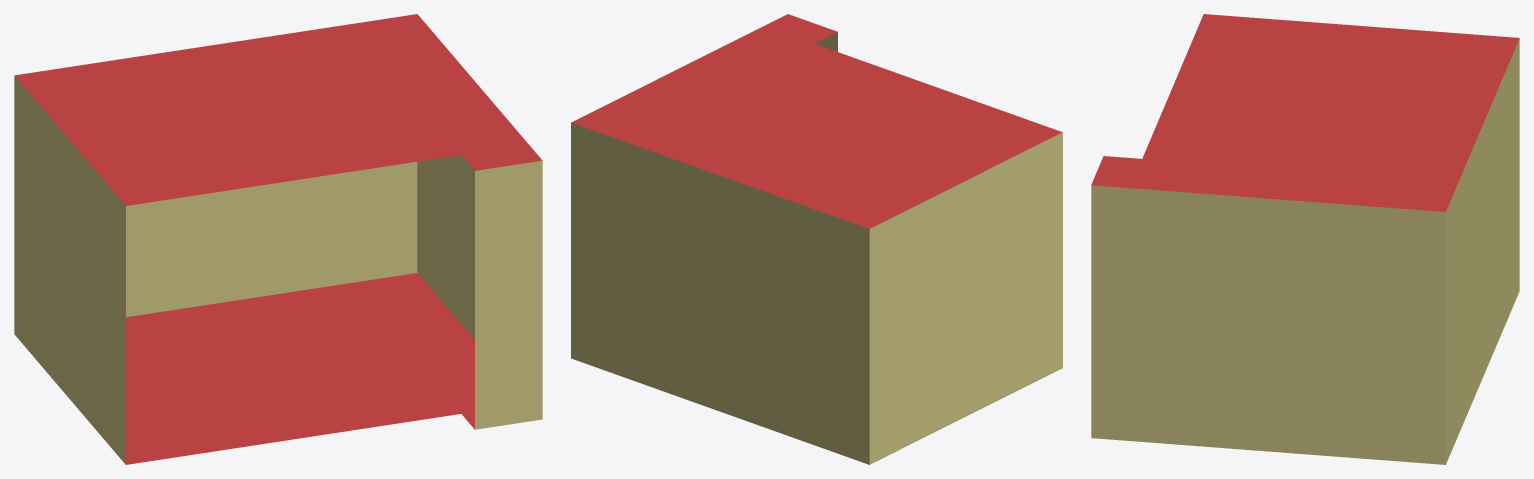
3 views of the same model, side by side, from view 1: azimuth 30°, elevation 25°; view 2: azimuth 150°, elevation 25°; view 3: azimuth 270°, elevation 25° (orthographic). The views are drawn at different scales.
Bounding box in the file's own units: 10.11 × 9.24 × 6.02.
